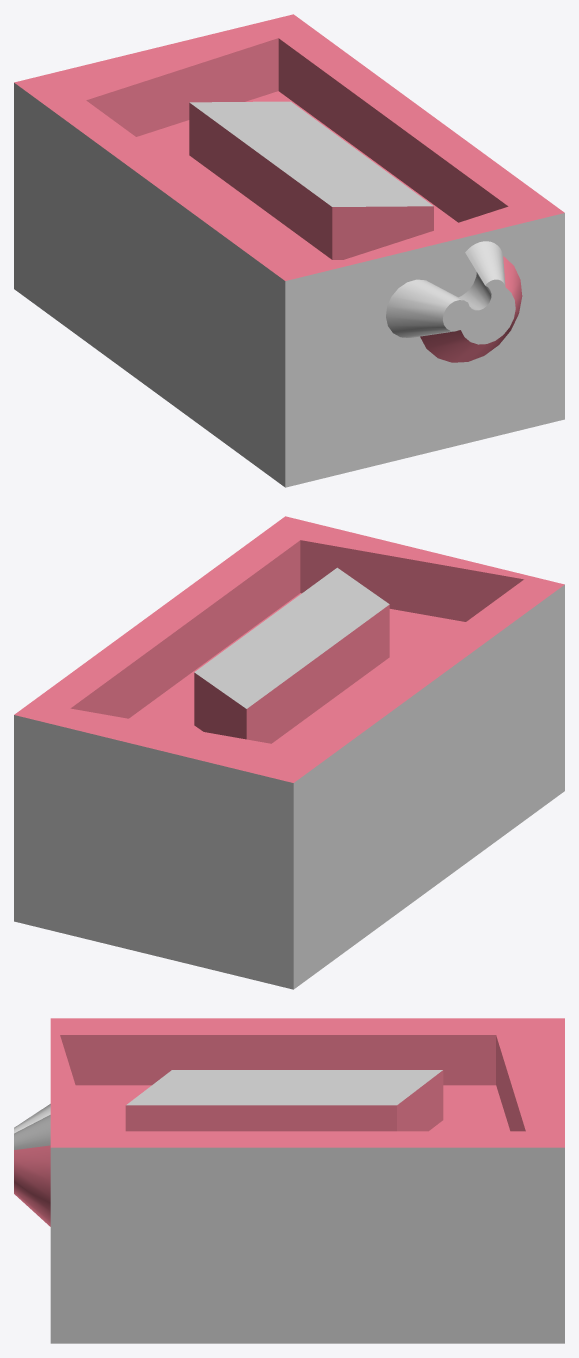
3 renders of one model, top to bottom at view 1: azimuth 30°, elevation 25°; view 2: azimuth 150°, elevation 25°; view 3: azimuth 270°, elevation 25°, orthographic. The views are drawn at different scales.
Parts seen in each view (by area): view 1: SketchUp (×7); view 2: SketchUp (×5); view 3: SketchUp (×7).
Boxes of the visible parts, x1,y1,x2,y2 form: SketchUp (×7): (14, 14, 564, 487); SketchUp (×5): (14, 516, 564, 989); SketchUp (×7): (14, 1018, 564, 1343).
Bounding box in the file's own units: 174 × 313 × 123.
